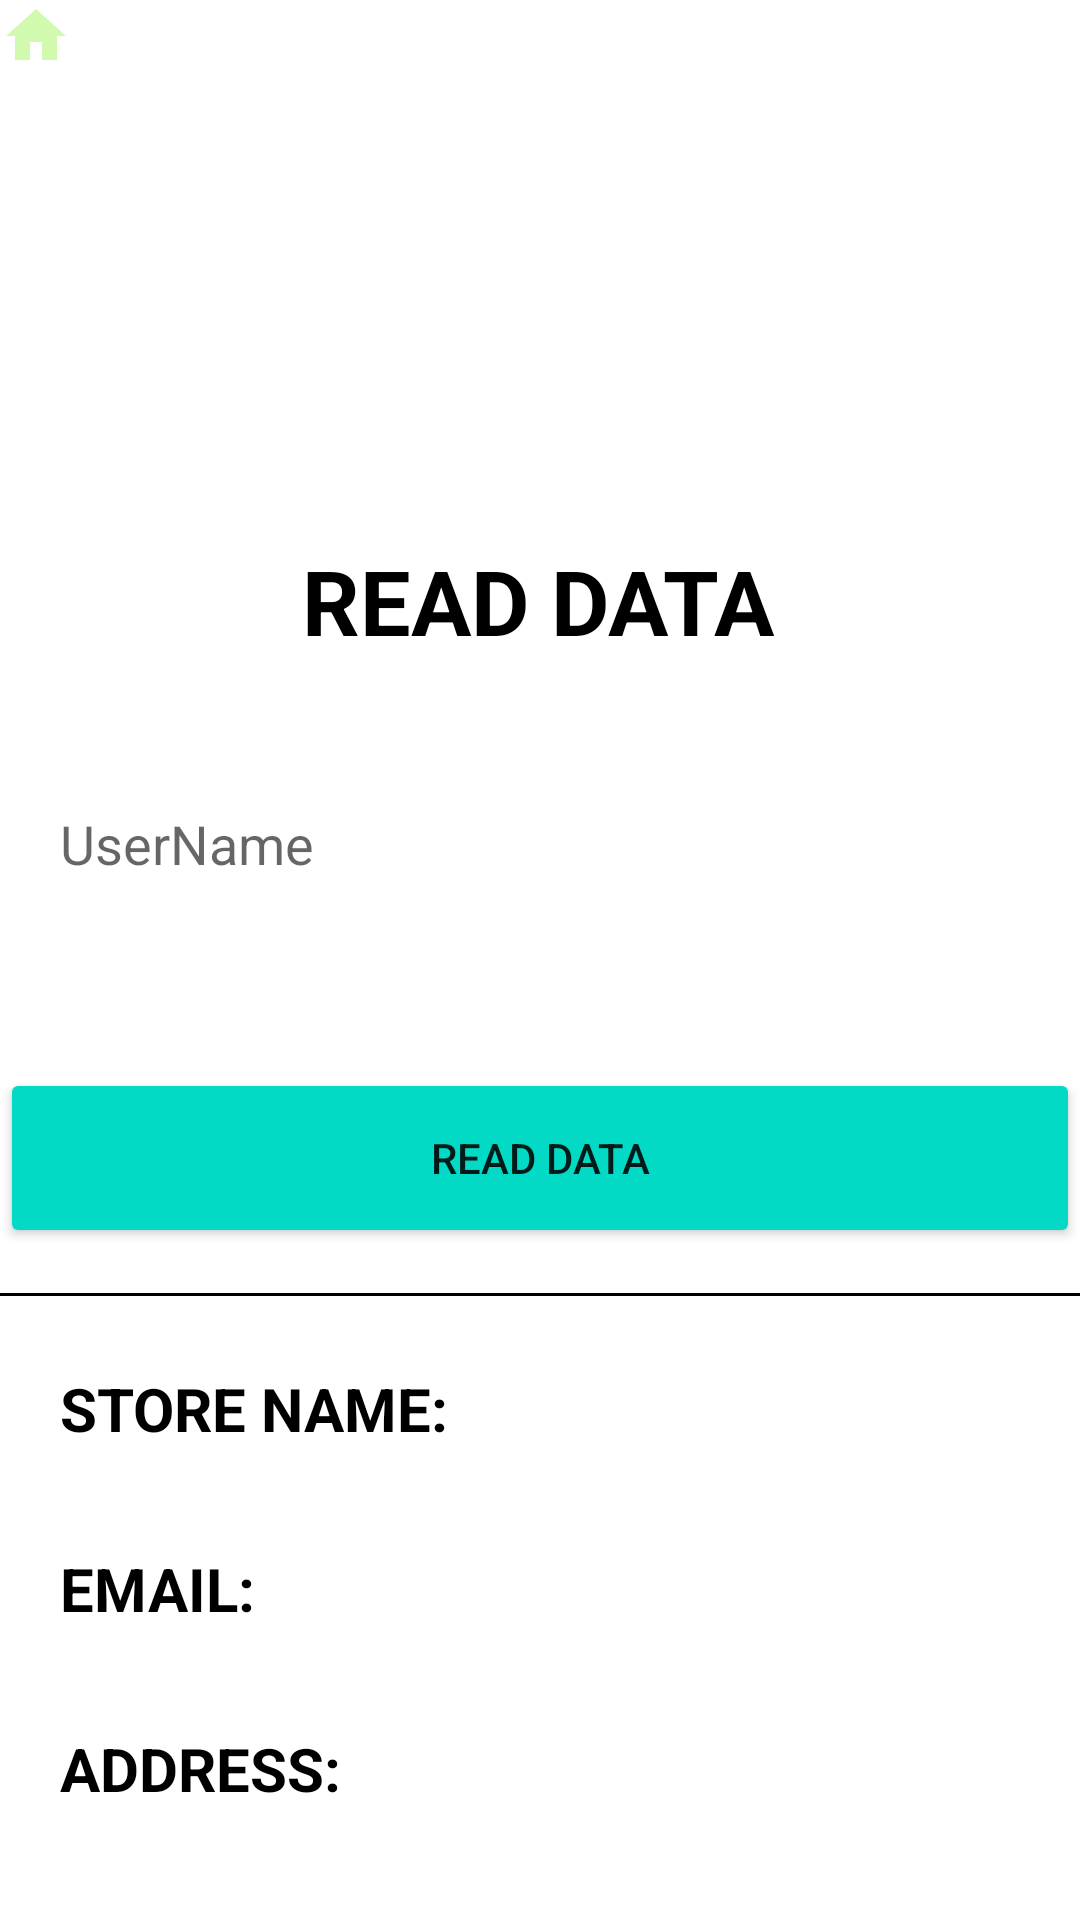

Point at icon controls on the screen. Image size 1080px×1920px, points as (x,y).
home: (36,34)
